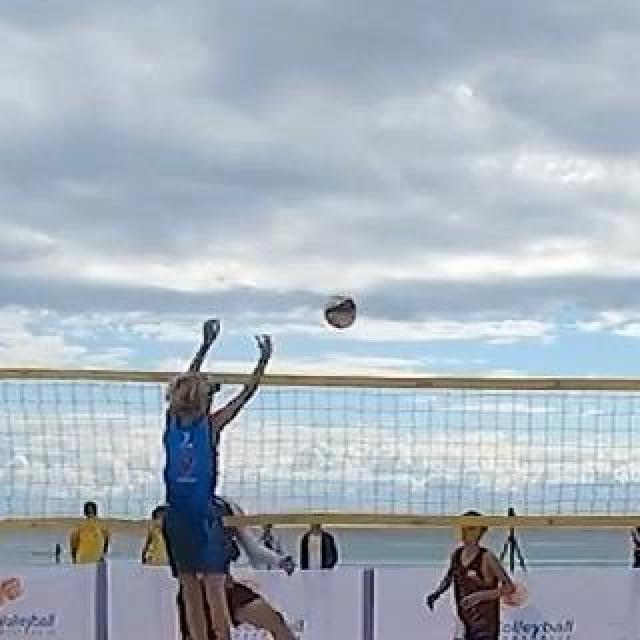volleyball: (325, 296, 357, 328)
